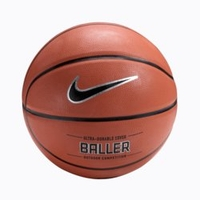basketball: (21, 22, 177, 179)
